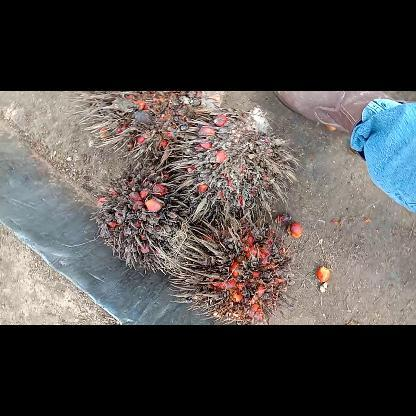Terlalu masak: (160, 97, 304, 227), (89, 154, 222, 280), (164, 206, 296, 324), (68, 90, 230, 170)
